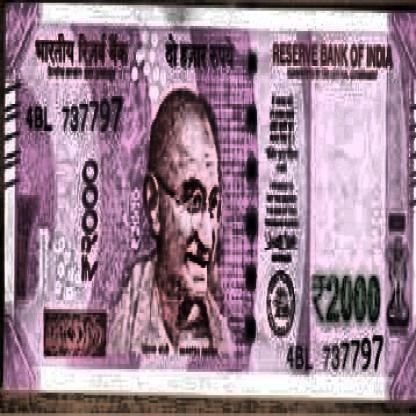Rs2000: (307, 260, 384, 332)
